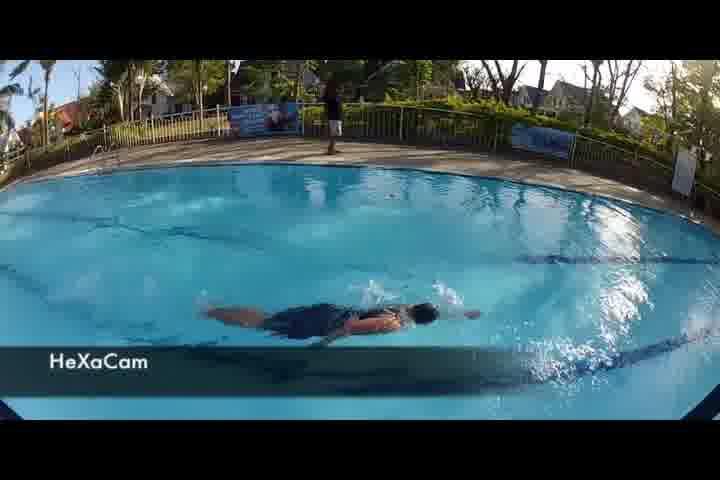swimmer: (198, 284, 473, 346)
